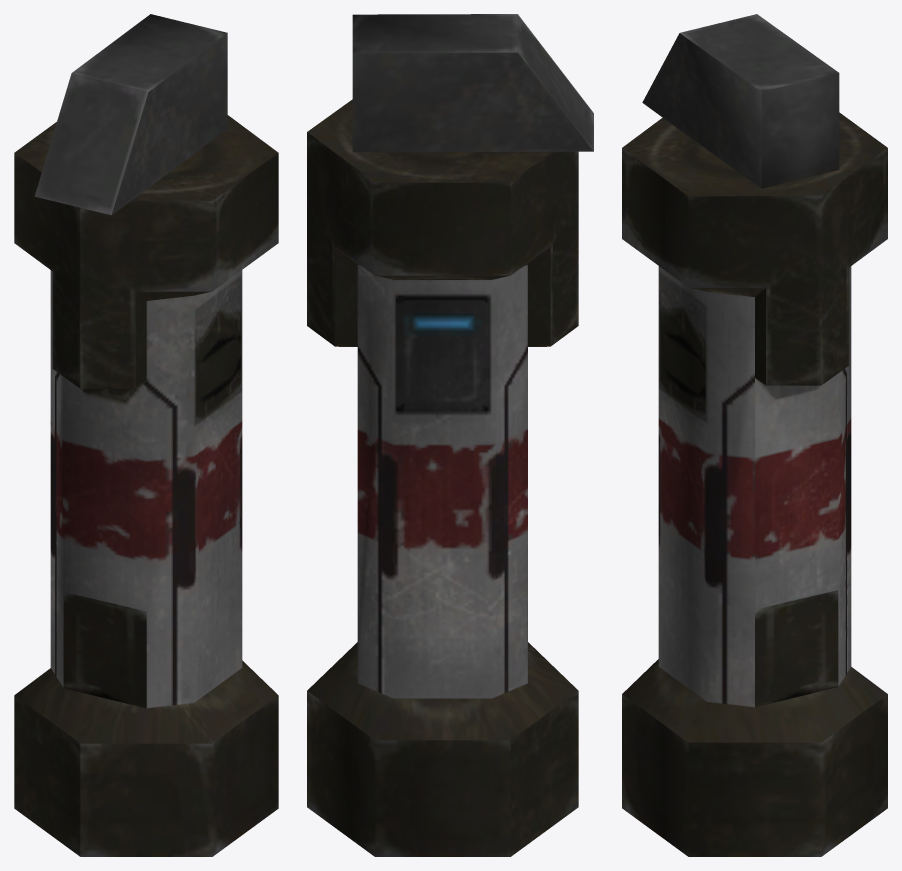
Rendered from t6_wpn_grenade_flashbang_world_LOD1.obj.
The picture shows the model from 3 angles, left to right: view 1: azimuth 30°, elevation 25°; view 2: azimuth 150°, elevation 25°; view 3: azimuth 270°, elevation 25°; orthographic projection. The views are drawn at different scales.
Visible parts, largest first — view 1: mtl_t6_wpn_grenade_flashbang; view 2: mtl_t6_wpn_grenade_flashbang; view 3: mtl_t6_wpn_grenade_flashbang.
Boxes of the visible parts, x1=… form: mtl_t6_wpn_grenade_flashbang: x1=14, y1=14, x2=278, y2=856; mtl_t6_wpn_grenade_flashbang: x1=307, y1=14, x2=593, y2=856; mtl_t6_wpn_grenade_flashbang: x1=622, y1=14, x2=887, y2=856.
Bounding box in the file's own units: 7.02 × 22.1 × 7.02.
